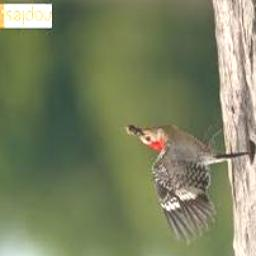Woodpecker: (137, 122, 251, 247)
